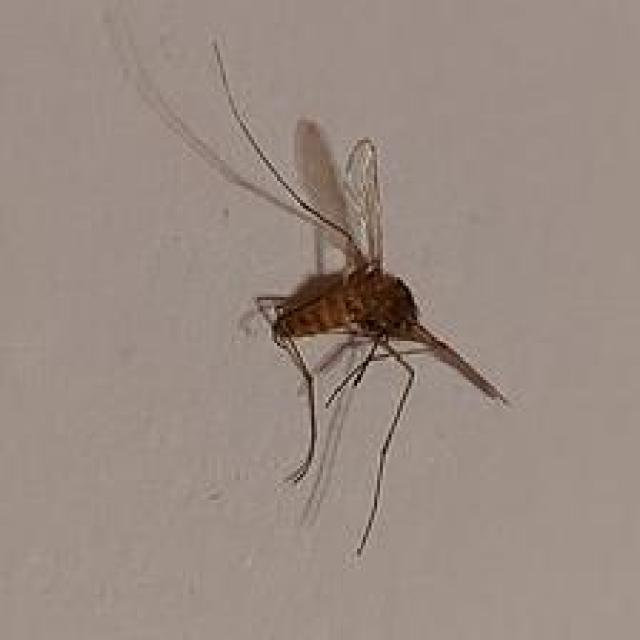Culex: (98, 0, 513, 557)
